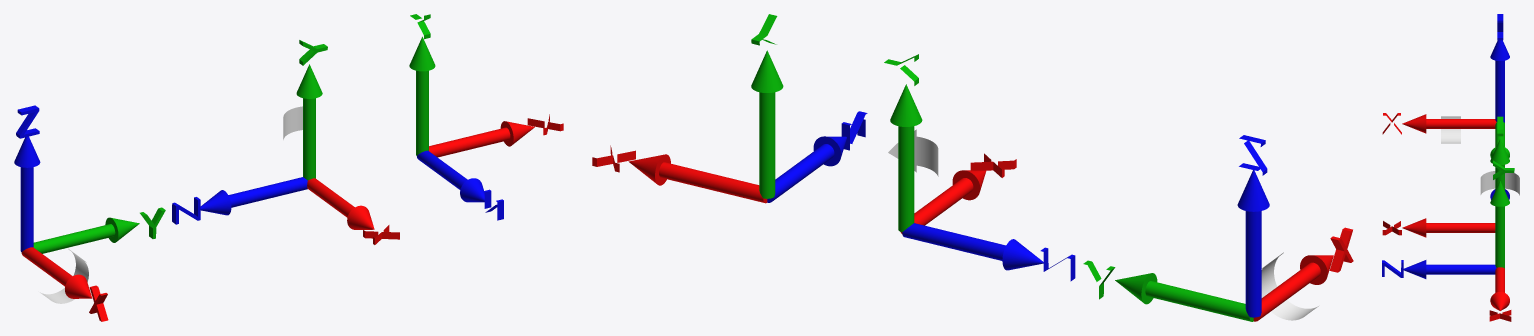
File: fig2_16a.gltf
3 views of the same model, side by side, from view 1: azimuth 30°, elevation 25°; view 2: azimuth 150°, elevation 25°; view 3: azimuth 270°, elevation 25° (orthographic). The views are drawn at different scales.
Visible parts, largest first — view 1: Renderer Node; view 2: Renderer Node; view 3: Renderer Node.
Part boxes in pixels (bbox=[...]): Renderer Node: bbox=[14, 14, 563, 321]; Renderer Node: bbox=[592, 14, 1353, 321]; Renderer Node: bbox=[1382, 14, 1519, 321].
Bounding box in the file's own units: 4.89 × 1.41 × 1.4.
